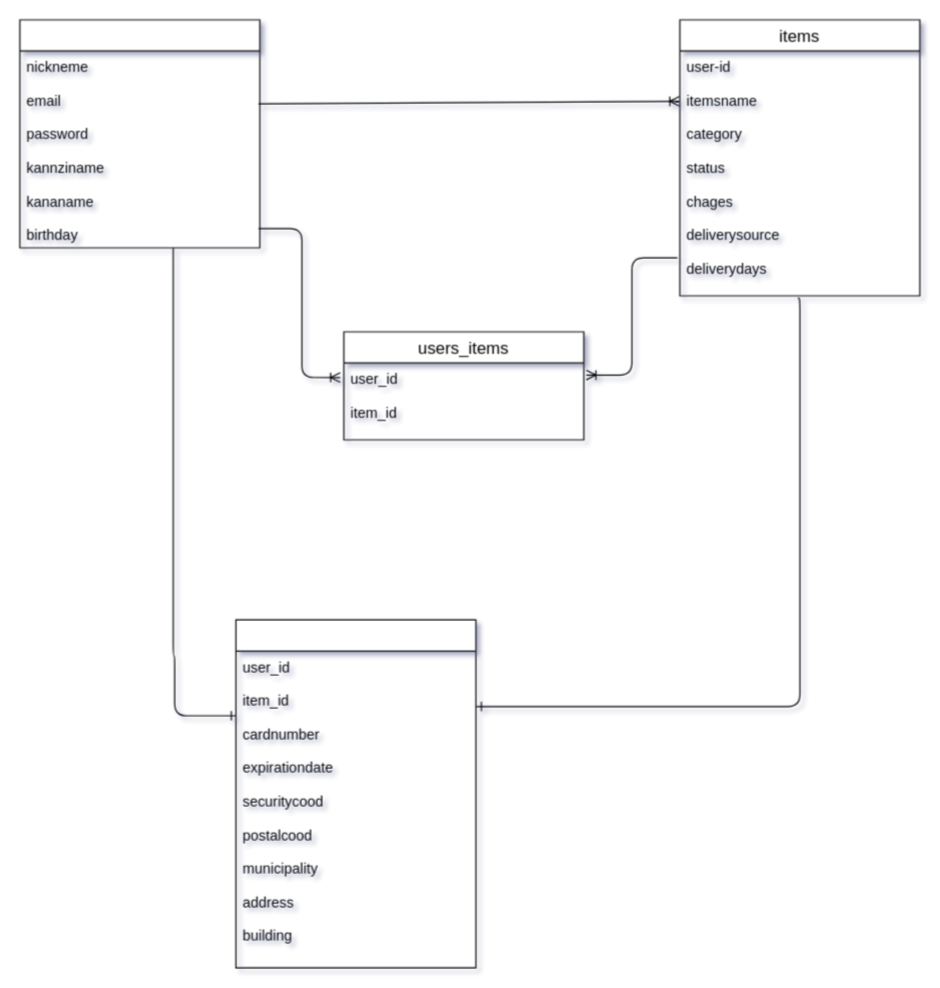
The diagram is 940 pixels wide and 988 high, and some of its shapes have lost their labels. Here are the shapes that lost their labels. From the top down, the box of each, then its label:
(19, 19, 260, 248): users
(235, 619, 476, 968): buyers
